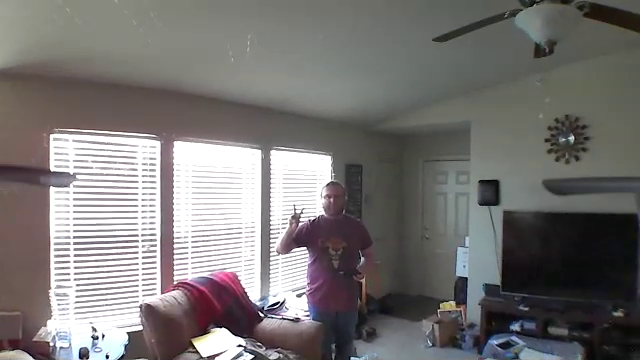peace: (286, 199, 309, 232)
